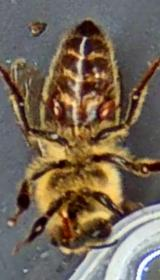varroa_mite: (90, 88, 120, 124), (43, 88, 70, 124)
